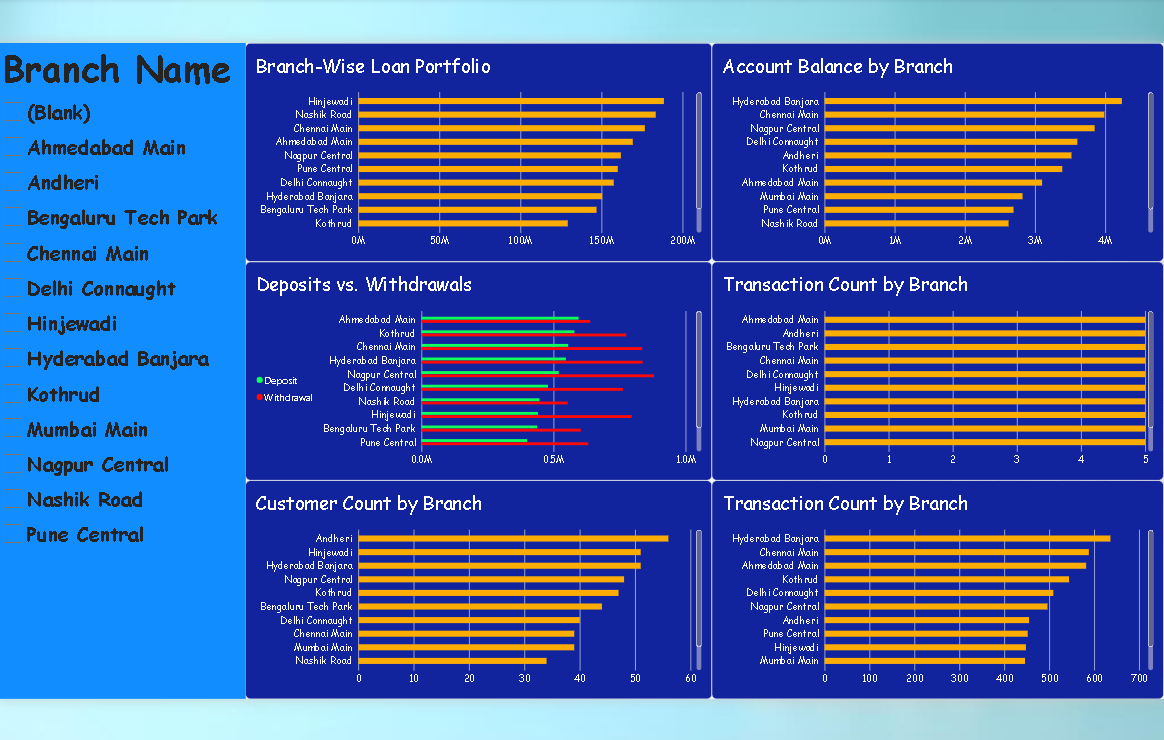

What the dashboard file says about the page in this screenshot:
{"tool":"powerbi","page":{"name":"Branch Performance","canvas":[1920,1080],"ordinal":4},"visuals":[{"type":"barChart","title":"Branch-Wise Loan Portfolio","fields":{"Category":["branch_performance.branch_name"],"Y":["Sum(branch_performance.Loan_Amount)"]},"box":[408,0,768,360],"z":0},{"type":"barChart","title":"Customer Count by Branch","fields":{"Category":["branch_performance.branch_name"],"Y":["Sum(branch_performance.Customers)"]},"box":[408,720,768,360],"z":1000},{"type":"clusteredBarChart","title":"Account Balance by Branch","fields":{"Category":["branch_performance.branch_name"],"Y":["Sum(branch_performance.Branch_Balance)"]},"box":[1176,0,744,360],"z":2000},{"type":"clusteredBarChart","title":"Deposits vs. Withdrawals","fields":{"Category":["branch_transactions.Branch_Name"],"Y":["Sum(branch_transactions.DepositS)","Sum(branch_transactions.Withdrawal)"]},"box":[408,360,768,360],"z":2001},{"type":"barChart","title":"Transaction Count by Branch\t","fields":{"Category":["branch_transactions.Branch_Name"],"Y":["Sum(branch_transactions.Transactions)"]},"box":[1176,720,744,360],"z":2002},{"type":"barChart","title":"Transaction Count by Branch\t","fields":{"Category":["branch_performance.branch_name"],"Y":["Sum(branch_performance.Employees)"]},"box":[1176,360,744,360],"z":2003},{"type":"slicer","title":"Deposits vs. Withdrawals","fields":{"Values":["branch_transactions.Branch_Name"]},"box":[0,0,408,1080],"z":2004}]}

Visuals, with their boxes on the page's 1920x1080 design canvas (x1, y1, x2, y2). These are canvas units, not pixel positions in the 1164x740 screenshot, which may show the page scaled, cropped or inside an application window:
"Branch-Wise Loan Portfolio" barChart: 408:0:1176:360
"Customer Count by Branch" barChart: 408:720:1176:1080
"Account Balance by Branch" clusteredBarChart: 1176:0:1920:360
"Deposits vs. Withdrawals" clusteredBarChart: 408:360:1176:720
"Transaction Count by Branch	" barChart: 1176:720:1920:1080
"Transaction Count by Branch	" barChart: 1176:360:1920:720
"Deposits vs. Withdrawals" slicer: 0:0:408:1080
